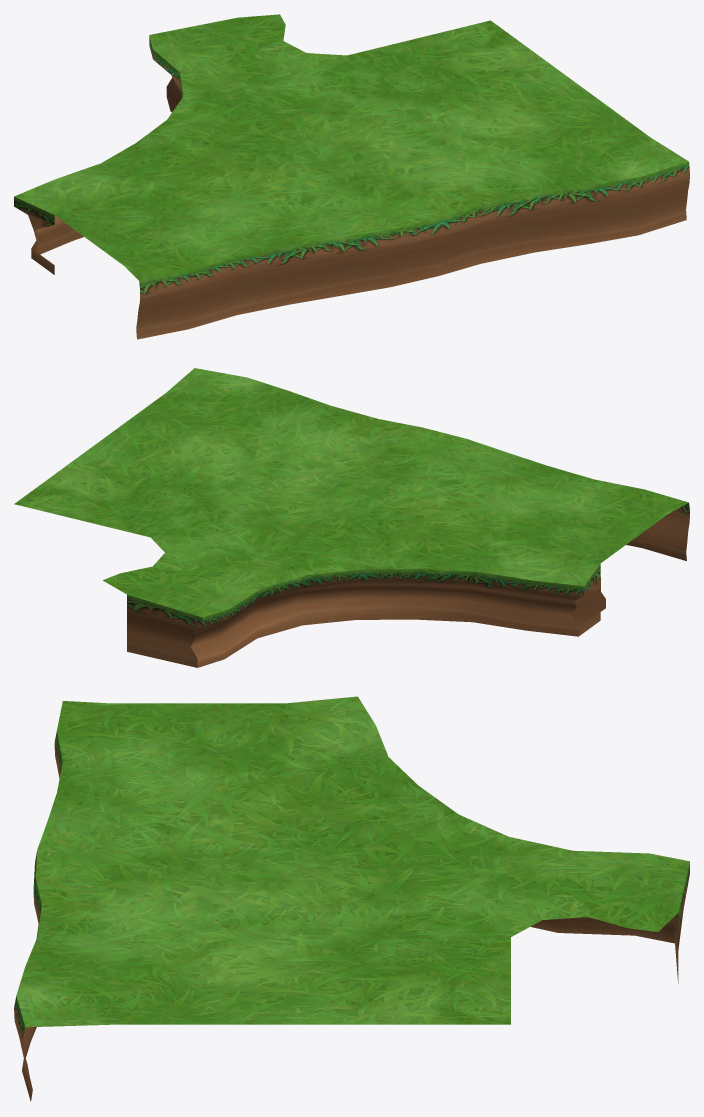
File: lvl1_plat005.FBX
3 views of the same model, one above another, from view 1: azimuth 30°, elevation 25°; view 2: azimuth 150°, elevation 25°; view 3: azimuth 270°, elevation 25° (orthographic). The views are drawn at different scales.
Visible parts, largest first — view 1: lvl1_plat005_grass, lvl1_plat005; view 2: lvl1_plat005_grass, lvl1_plat005; view 3: lvl1_plat005_grass, lvl1_plat005.
Boxes of the visible parts, left/top/right/bottom form: lvl1_plat005_grass: left=14, top=14, right=688, bottom=280; lvl1_plat005: left=14, top=36, right=689, bottom=339; lvl1_plat005_grass: left=14, top=368, right=688, bottom=617; lvl1_plat005: left=127, top=503, right=689, bottom=667; lvl1_plat005_grass: left=16, top=696, right=689, bottom=1027; lvl1_plat005: left=14, top=731, right=689, bottom=1101.
Bounding box in the file's own units: 1676 × 181 × 1447.
